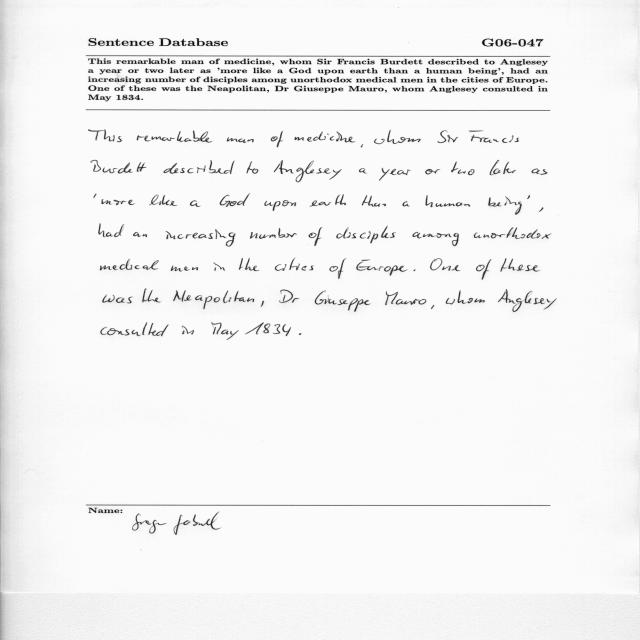word: (173, 290, 254, 309), (274, 160, 342, 182), (498, 289, 557, 312), (166, 229, 236, 247), (315, 290, 370, 312), (336, 226, 396, 243), (163, 160, 235, 174), (137, 130, 212, 143), (474, 227, 551, 239), (101, 323, 169, 336), (356, 260, 407, 276), (91, 160, 146, 174), (295, 132, 355, 143), (374, 130, 421, 144), (412, 232, 459, 246), (469, 130, 519, 143), (100, 259, 159, 270), (488, 196, 522, 215), (245, 323, 291, 336), (385, 291, 427, 305), (446, 290, 485, 305), (500, 258, 540, 272), (426, 195, 471, 207), (250, 228, 297, 239), (275, 258, 313, 271), (211, 323, 239, 340), (309, 194, 346, 206), (220, 193, 250, 207), (88, 130, 122, 142), (490, 160, 516, 175), (430, 258, 460, 271), (379, 168, 411, 180), (330, 258, 347, 279), (264, 200, 296, 211), (99, 224, 124, 237), (451, 162, 475, 175), (149, 195, 177, 206), (476, 260, 491, 280), (362, 195, 386, 207), (279, 289, 299, 303), (438, 130, 459, 143), (239, 258, 259, 271), (309, 227, 322, 246), (143, 289, 162, 302), (103, 295, 133, 303), (101, 199, 135, 205), (271, 131, 283, 147), (227, 137, 254, 143), (171, 266, 198, 272), (247, 161, 259, 174), (213, 262, 225, 271), (182, 326, 194, 335), (532, 169, 548, 175), (190, 200, 201, 207), (426, 169, 441, 174), (133, 232, 147, 237), (359, 168, 367, 174), (403, 201, 410, 206), (539, 207, 544, 212), (261, 301, 264, 307), (94, 194, 97, 199), (527, 195, 530, 199), (431, 305, 434, 309), (361, 144, 363, 148), (299, 333, 302, 335), (414, 269, 416, 271)
